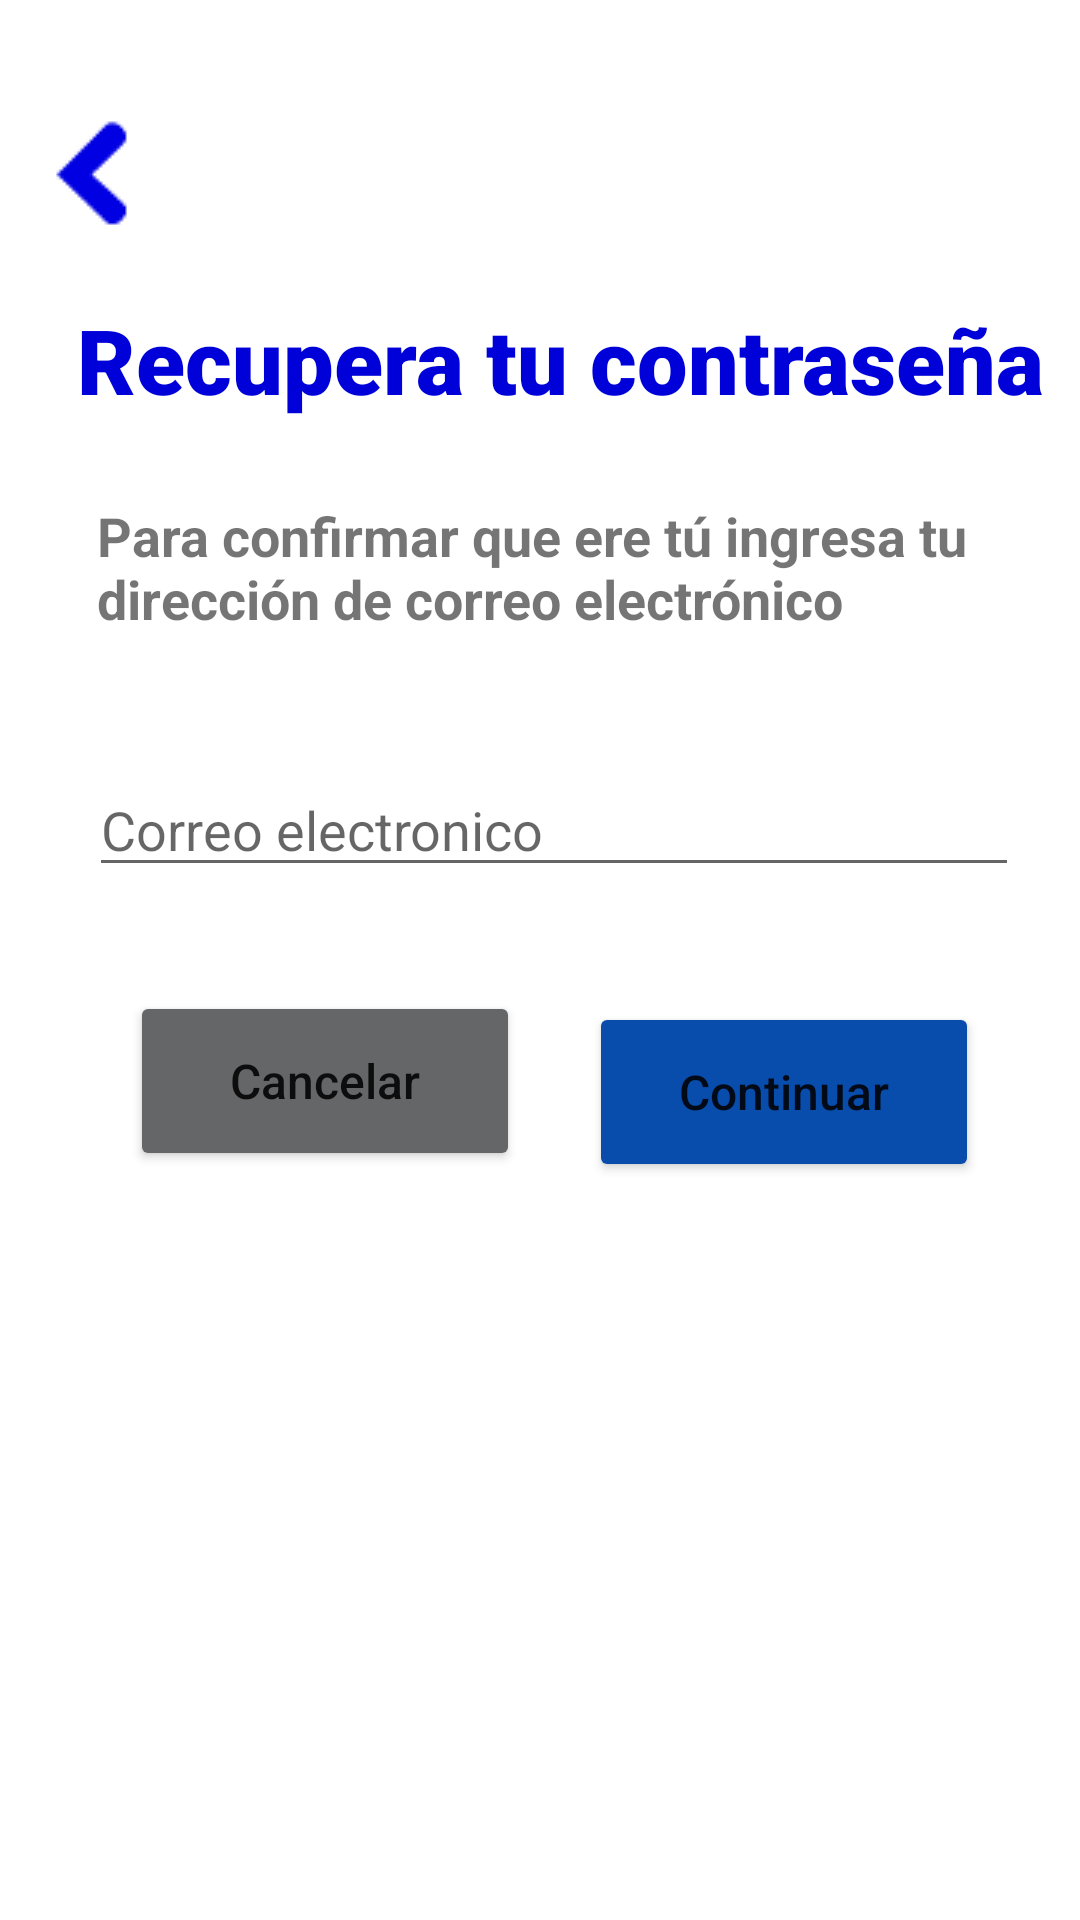

Named icons in this screenshot (1080x1920) and their bounding boxes, (x1, y1, x2, y2):
back: (56, 121, 127, 225)
